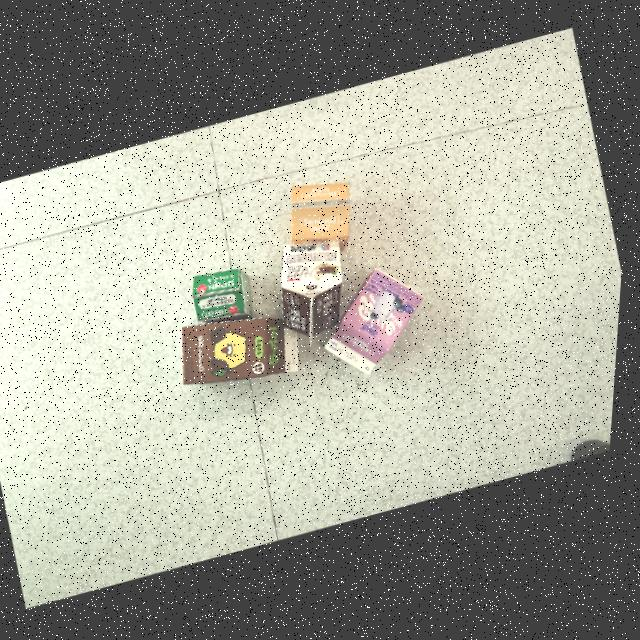milk: (330, 269, 427, 374), (185, 317, 302, 384), (285, 241, 346, 340), (295, 182, 355, 259), (195, 268, 255, 323)
